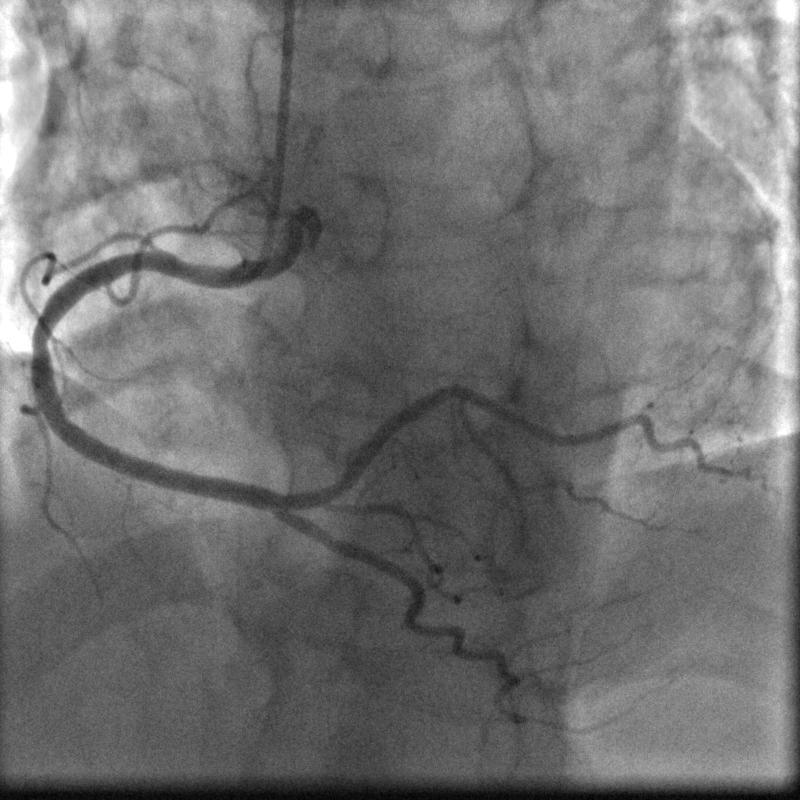Stenosis: (24, 311, 55, 362)
